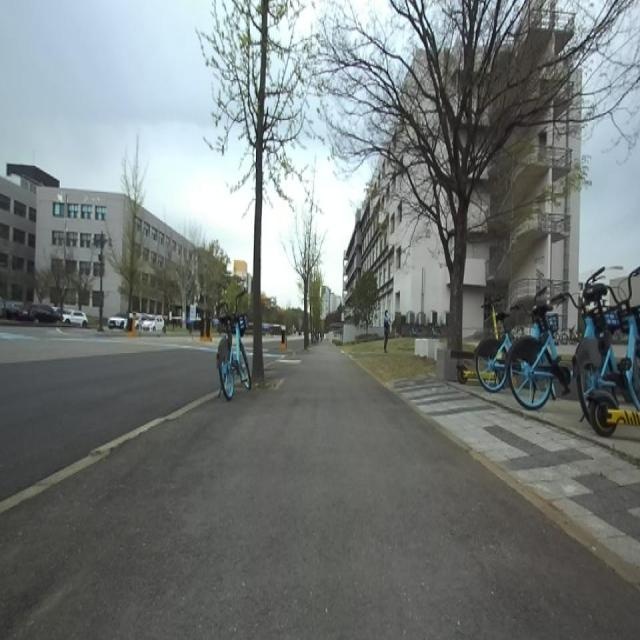sidewalk: (0, 348, 640, 639), (0, 390, 220, 513)
